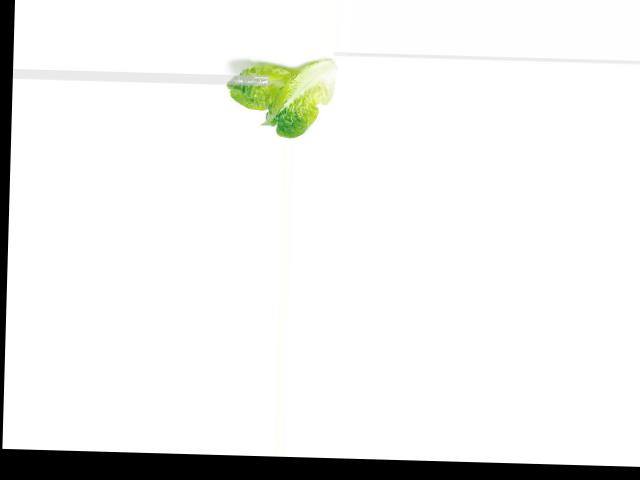lettuce: (222, 60, 340, 140)
